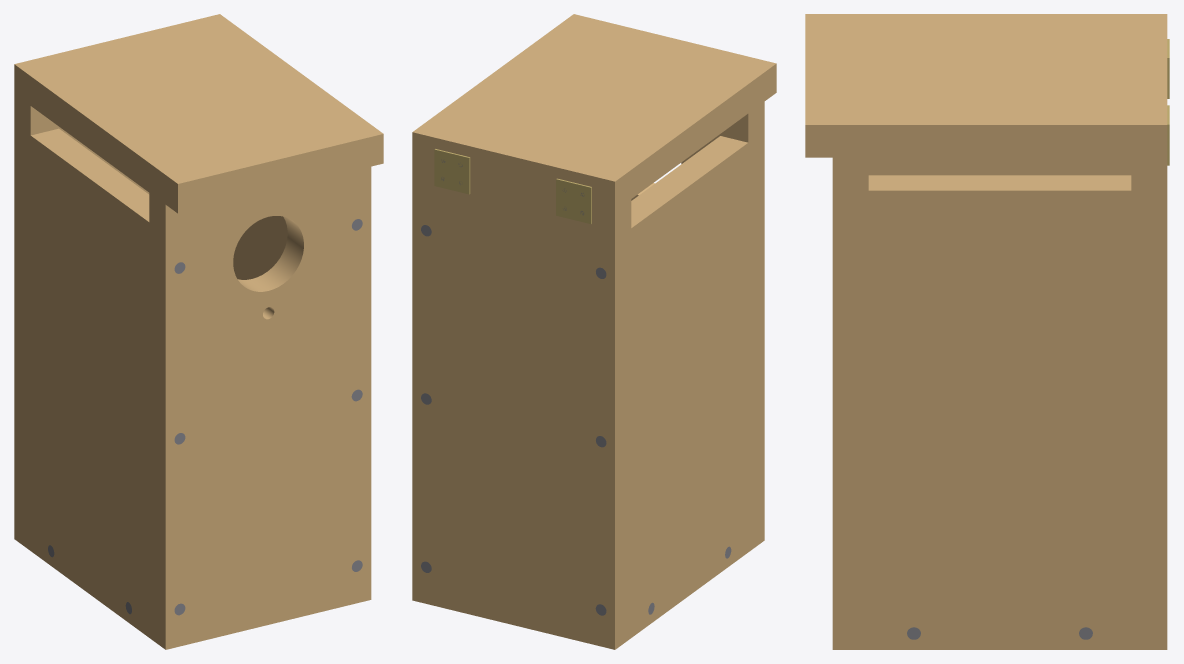
3 views of the same model, side by side, from view 1: azimuth 30°, elevation 25°; view 2: azimuth 150°, elevation 25°; view 3: azimuth 270°, elevation 25° (orthographic). The views are drawn at different scales.
Visible parts, largest first — view 1: front, side_1, roof, back, side_2; view 2: back, side_1, roof, front, hw_roof_hinge_1, hw_roof_hinge_0; view 3: side_2, roof, front, back, side_1.
Part boxes in pixels (x1=…): front: x1=149, y1=166, x2=371, y2=649; side_1: x1=30, y1=128, x2=149, y2=637; roof: x1=14, y1=14, x2=383, y2=213; back: x1=14, y1=94, x2=149, y2=550; side_2: x1=233, y1=216, x2=287, y2=279; back: x1=412, y1=161, x2=631, y2=649; side_1: x1=631, y1=136, x2=748, y2=637; roof: x1=412, y1=14, x2=776, y2=210; front: x1=631, y1=102, x2=764, y2=551; hw_roof_hinge_1: x1=434, y1=149, x2=470, y2=194; hw_roof_hinge_0: x1=556, y1=178, x2=591, y2=224; side_2: x1=868, y1=175, x2=1131, y2=649; roof: x1=805, y1=14, x2=1167, y2=157; front: x1=832, y1=157, x2=868, y2=649; back: x1=1131, y1=157, x2=1167, y2=649; side_1: x1=868, y1=157, x2=1131, y2=175.
Size of the model in its own units: 145 by 320 by 201.
